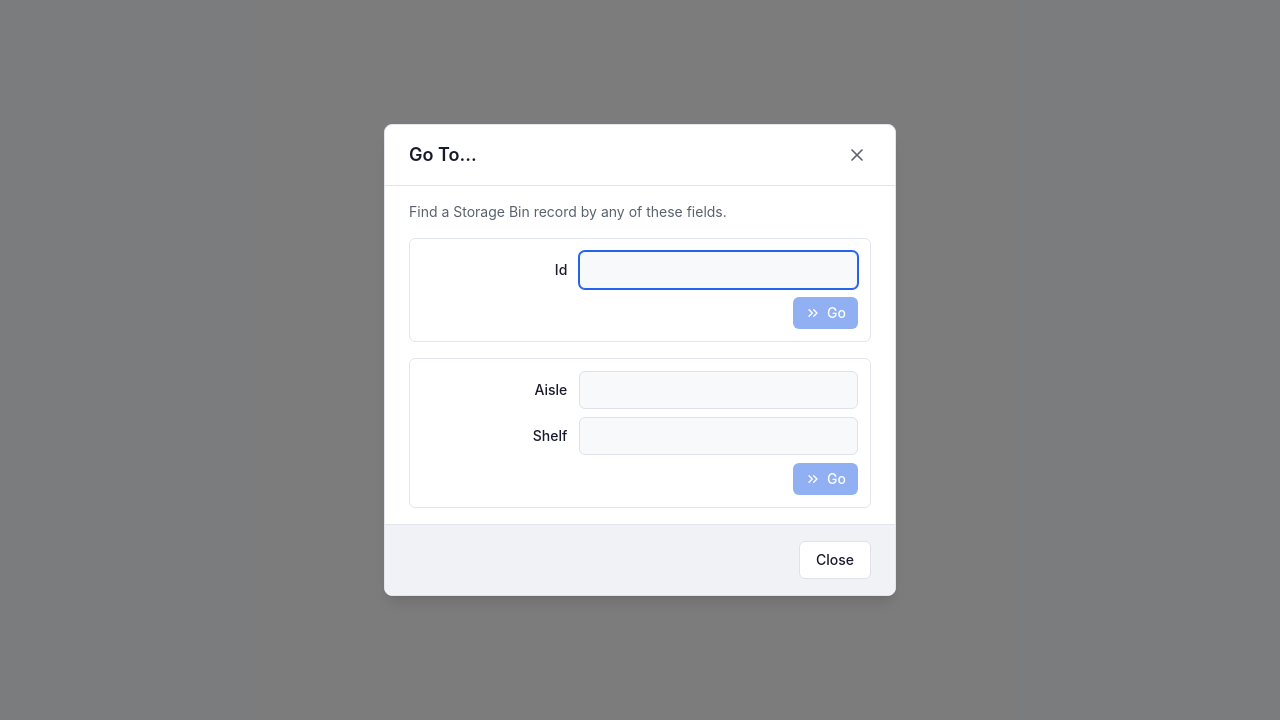
Test: GotoRecordDialog › shows Material's messages for no match and for several matches
This screenshot has width=1280, height=720.
Type "99" into the field labelled "Id" at (719, 270), box [579, 251, 858, 289]
Then press Enter
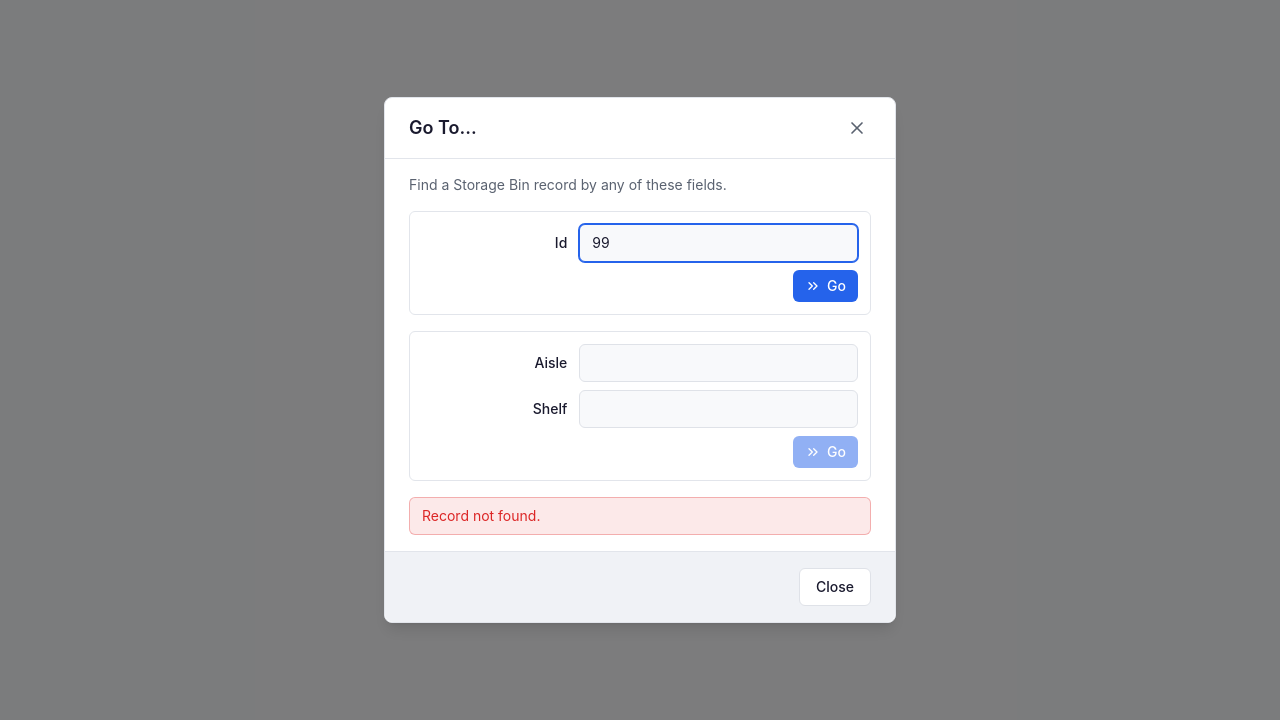
Check: the message reads "Record not found.", box [422, 507, 540, 524]
Type "A" into the field labelled "Aisle" at (719, 363), box [579, 344, 858, 382]
Then press Enter
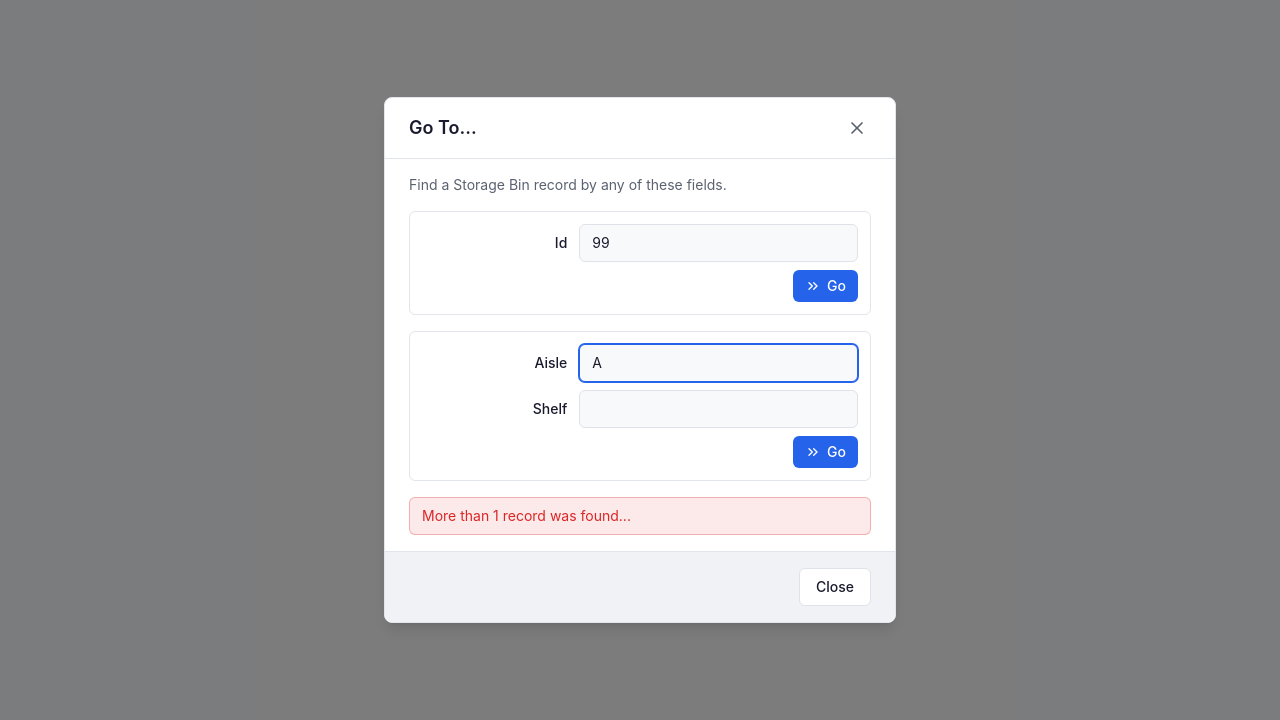
Check: the message reads "More than 1 record was found...", box [422, 507, 631, 524]
